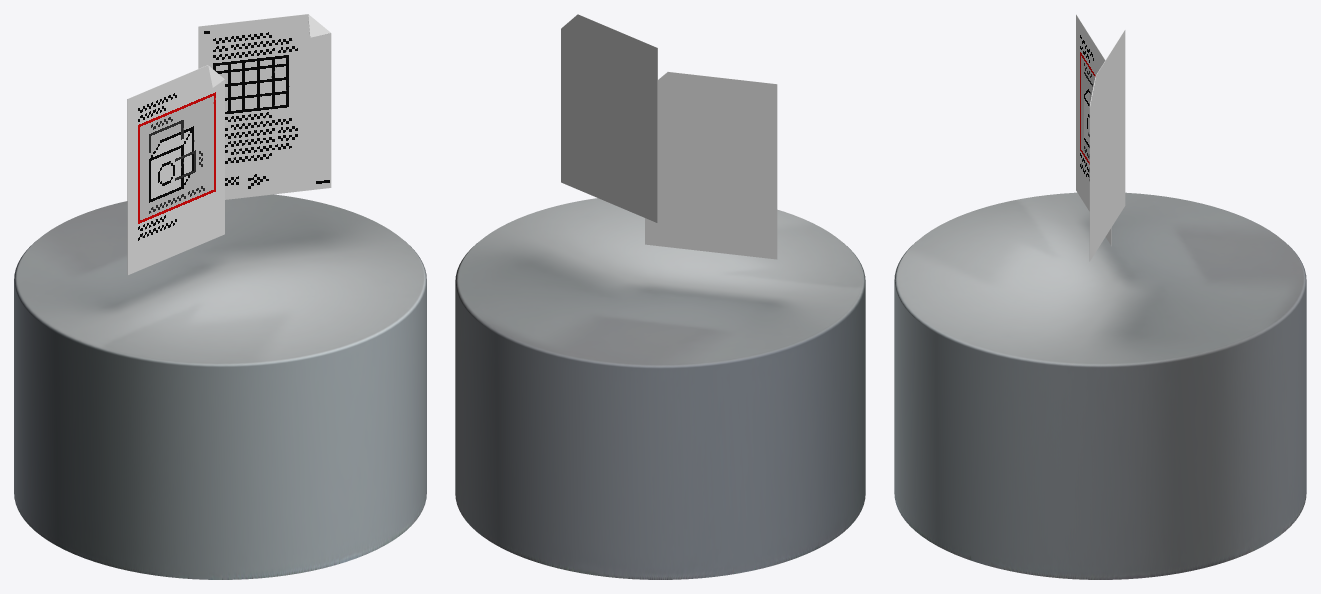
The model's file is article.glb.
3 views of the same model, side by side, from view 1: azimuth 30°, elevation 25°; view 2: azimuth 150°, elevation 25°; view 3: azimuth 270°, elevation 25° (orthographic).
Visible parts, largest first — view 1: Circle, Plane, Plane.001; view 2: Circle, Plane.001, Plane; view 3: Circle, Plane, Plane.001.
Boxes of the visible parts, left/top/right/bottom form: Circle: left=14, top=194, right=426, bottom=579; Plane: left=198, top=14, right=331, bottom=199; Plane.001: left=127, top=65, right=224, bottom=275; Circle: left=455, top=198, right=865, bottom=579; Plane.001: left=645, top=71, right=777, bottom=259; Plane: left=561, top=14, right=657, bottom=223; Circle: left=894, top=192, right=1306, bottom=579; Plane: left=1089, top=29, right=1125, bottom=261; Plane.001: left=1076, top=14, right=1111, bottom=245.
Size of the model in its own units: 6 by 7.37 by 6.
3 materials, 3 textured.
